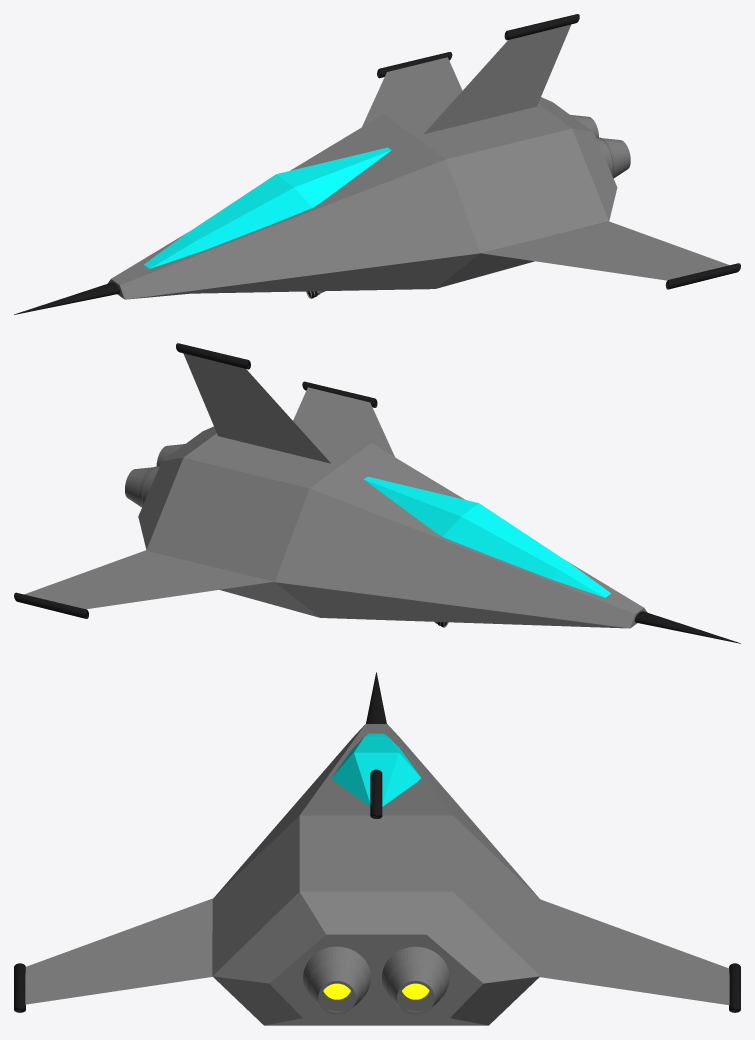
3 views of the same model, one above another, from view 1: azimuth 30°, elevation 25°; view 2: azimuth 150°, elevation 25°; view 3: azimuth 270°, elevation 25° (orthographic). The views are drawn at different scales.
Visible parts, largest first — view 1: Cube, Cylinder, Plane.001, Plane.002, Plane, Cylinder.002, Cylinder.001, Cylinder.004, Cylinder.006; view 2: Cube, Cylinder, Plane, Plane.002, Plane.001, Cylinder.003, Cylinder.001, Cylinder.004, Cylinder.005; view 3: Cube, Plane.001, Plane, Cylinder, Cylinder.002, Cylinder.003, Cylinder.004, Cylinder.001, Cylinder.006, Cylinder.005.
Boxes of the visible parts, x1,y1,x2,y2 form: Cube: [107, 96, 617, 299]; Cylinder: [144, 147, 391, 268]; Plane.001: [480, 221, 729, 280]; Plane.002: [424, 24, 571, 133]; Plane: [362, 57, 462, 126]; Cylinder.002: [596, 137, 630, 178]; Cylinder.001: [14, 282, 120, 314]; Cylinder.004: [504, 14, 579, 40]; Cylinder.006: [665, 263, 740, 289]; Cube: [138, 425, 647, 628]; Cylinder: [364, 476, 610, 597]; Plane: [24, 550, 273, 609]; Plane.002: [183, 353, 330, 463]; Plane.001: [293, 387, 394, 456]; Cylinder.003: [125, 466, 159, 507]; Cylinder.001: [635, 611, 740, 643]; Cylinder.004: [176, 343, 250, 369]; Cylinder.005: [14, 592, 88, 618]; Cube: [212, 724, 540, 1025]; Plane.001: [25, 898, 212, 1004]; Plane: [540, 899, 729, 1005]; Cylinder: [331, 733, 420, 806]; Cylinder.002: [303, 946, 370, 1015]; Cylinder.003: [382, 946, 449, 1015]; Cylinder.004: [370, 769, 382, 818]; Cylinder.001: [366, 672, 386, 723]; Cylinder.006: [14, 963, 25, 1012]; Cylinder.005: [729, 963, 740, 1012].
Bounding box in the file's own units: 20.83 × 7.35 × 17.86.
